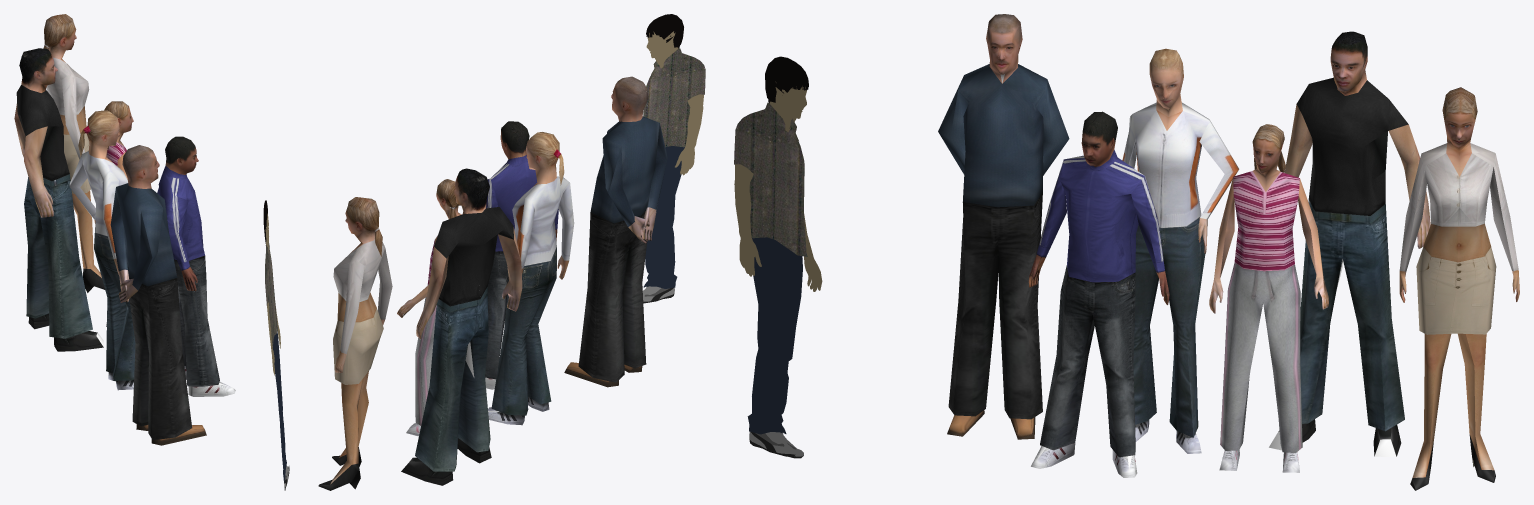
Rendered from familia.obj.
3 renders of one model, left to right at view 1: azimuth 30°, elevation 25°; view 2: azimuth 150°, elevation 25°; view 3: azimuth 270°, elevation 25°, orthographic. The views are drawn at different scales.
Visible parts, largest first — view 1: Mesh2 crowd1 G_3D_Crowd1 familia1 Model, Mesh15 crowd1 G_3D_Crowd1 familia1 Model, Mesh5 crowd1 G_3D_Crowd1 familia1 Model, Mesh8 crowd1 G_3D_Crowd1 familia1 Model, Mesh18 crowd1 G_3D_Crowd1 familia1 Model, Mesh1 Sang1 familia1 Model, Mesh20 crowd1 G_3D_Crowd1 familia1 Model, Mesh13 crowd1 G_3D_Crowd1 familia1 Model, Mesh17 crowd1 G_3D_Crowd1 familia1 Model, Mesh7 crowd1 G_3D_Crowd1 familia1 Model, Mesh4 crowd1 G_3D_Crowd1 familia1 Model; view 2: Mesh15 crowd1 G_3D_Crowd1 familia1 Model, Mesh2 crowd1 G_3D_Crowd1 familia1 Model, Mesh8 crowd1 G_3D_Crowd1 familia1 Model, Mesh1 Sang1 familia1 Model, Mesh18 crowd1 G_3D_Crowd1 familia1 Model, Mesh5 crowd1 G_3D_Crowd1 familia1 Model, Mesh13 crowd1 G_3D_Crowd1 familia1 Model, Mesh19 crowd1 G_3D_Crowd1 familia1 Model, Mesh16 crowd1 G_3D_Crowd1 familia1 Model, Mesh20 crowd1 G_3D_Crowd1 familia1 Model, Mesh3 crowd1 G_3D_Crowd1 familia1 Model; view 3: Mesh2 crowd1 G_3D_Crowd1 familia1 Model, Mesh15 crowd1 G_3D_Crowd1 familia1 Model, Mesh5 crowd1 G_3D_Crowd1 familia1 Model, Mesh13 crowd1 G_3D_Crowd1 familia1 Model, Mesh8 crowd1 G_3D_Crowd1 familia1 Model, Mesh1 Sang1 familia1 Model, Mesh18 crowd1 G_3D_Crowd1 familia1 Model, Mesh19 crowd1 G_3D_Crowd1 familia1 Model, Mesh20 crowd1 G_3D_Crowd1 familia1 Model.
Part boxes in pixels (left/top/right/bottom): Mesh2 crowd1 G_3D_Crowd1 familia1 Model: left=110, top=145, right=192, bottom=439; Mesh15 crowd1 G_3D_Crowd1 familia1 Model: left=14, top=48, right=92, bottom=338; Mesh5 crowd1 G_3D_Crowd1 familia1 Model: left=157, top=136, right=219, bottom=386; Mesh8 crowd1 G_3D_Crowd1 familia1 Model: left=69, top=110, right=135, bottom=380; Mesh18 crowd1 G_3D_Crowd1 familia1 Model: left=43, top=14, right=90, bottom=193; Mesh1 Sang1 familia1 Model: left=263, top=200, right=289, bottom=490; Mesh20 crowd1 G_3D_Crowd1 familia1 Model: left=72, top=191, right=104, bottom=292; Mesh13 crowd1 G_3D_Crowd1 familia1 Model: left=104, top=101, right=133, bottom=326; Mesh17 crowd1 G_3D_Crowd1 familia1 Model: left=54, top=331, right=103, bottom=351; Mesh7 crowd1 G_3D_Crowd1 familia1 Model: left=188, top=382, right=235, bottom=396; Mesh4 crowd1 G_3D_Crowd1 familia1 Model: left=151, top=425, right=206, bottom=445; Mesh15 crowd1 G_3D_Crowd1 familia1 Model: left=415, top=168, right=522, bottom=471; Mesh2 crowd1 G_3D_Crowd1 familia1 Model: left=578, top=76, right=667, bottom=382; Mesh8 crowd1 G_3D_Crowd1 familia1 Model: left=491, top=132, right=574, bottom=415; Mesh1 Sang1 familia1 Model: left=642, top=14, right=705, bottom=303; Mesh18 crowd1 G_3D_Crowd1 familia1 Model: left=333, top=197, right=392, bottom=384; Mesh5 crowd1 G_3D_Crowd1 familia1 Model: left=485, top=121, right=558, bottom=379; Mesh13 crowd1 G_3D_Crowd1 familia1 Model: left=397, top=179, right=464, bottom=425; Mesh19 crowd1 G_3D_Crowd1 familia1 Model: left=318, top=379, right=362, bottom=490; Mesh16 crowd1 G_3D_Crowd1 familia1 Model: left=401, top=457, right=453, bottom=485; Mesh20 crowd1 G_3D_Crowd1 familia1 Model: left=332, top=371, right=368, bottom=466; Mesh3 crowd1 G_3D_Crowd1 familia1 Model: left=564, top=362, right=618, bottom=387; Mesh2 crowd1 G_3D_Crowd1 familia1 Model: left=938, top=14, right=1069, bottom=419; Mesh15 crowd1 G_3D_Crowd1 familia1 Model: left=1284, top=31, right=1430, bottom=431; Mesh5 crowd1 G_3D_Crowd1 familia1 Model: left=1028, top=111, right=1169, bottom=457; Mesh13 crowd1 G_3D_Crowd1 familia1 Model: left=1209, top=124, right=1328, bottom=453; Mesh8 crowd1 G_3D_Crowd1 familia1 Model: left=1122, top=48, right=1239, bottom=437; Mesh1 Sang1 familia1 Model: left=734, top=56, right=822, bottom=458; Mesh18 crowd1 G_3D_Crowd1 familia1 Model: left=1399, top=87, right=1519, bottom=334; Mesh19 crowd1 G_3D_Crowd1 familia1 Model: left=1458, top=333, right=1495, bottom=482; Mesh20 crowd1 G_3D_Crowd1 familia1 Model: left=1410, top=334, right=1451, bottom=490.
Size of the model in its own units: 39.24 by 71.11 by 128.
10 materials, 3 textured.
